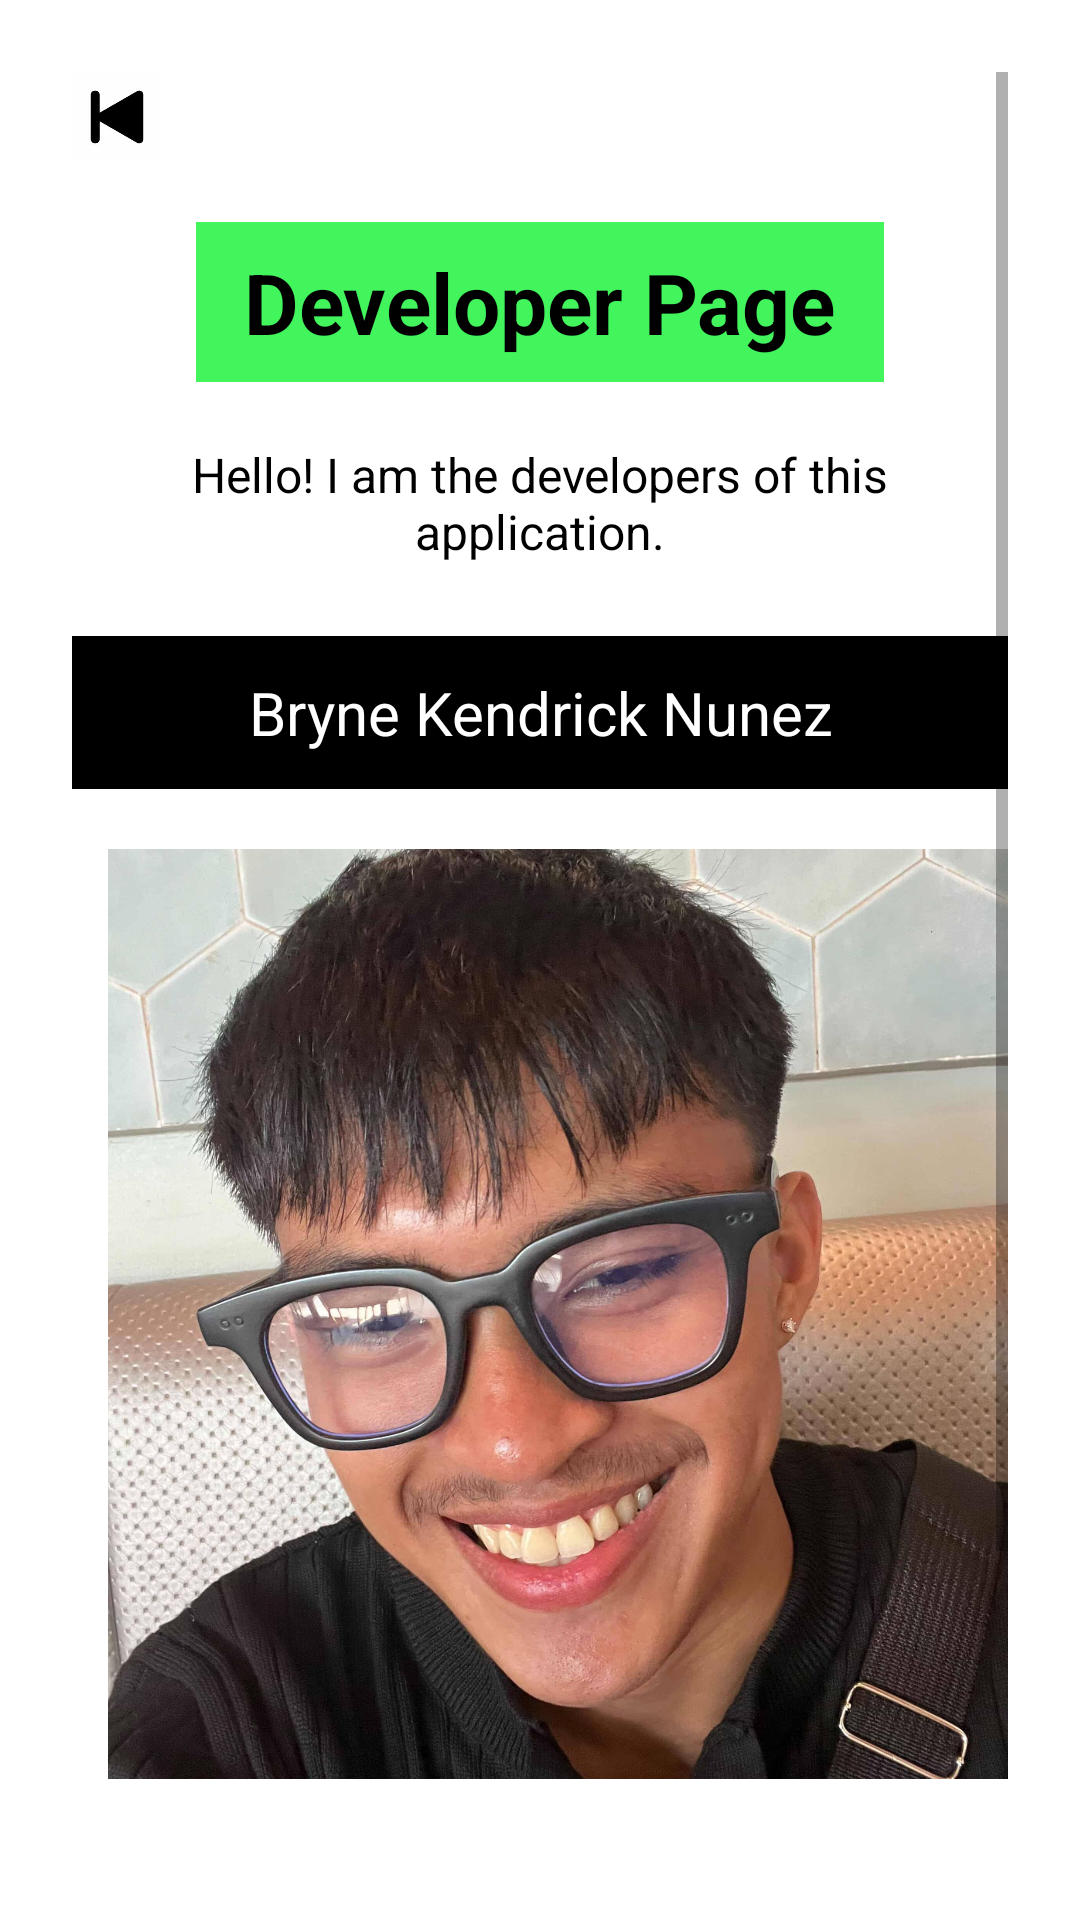

Icon bounding boxes for this 1080x1920 phone screenshot, format (x1, y1, x2, y2):
prev: (90, 90, 144, 144)
